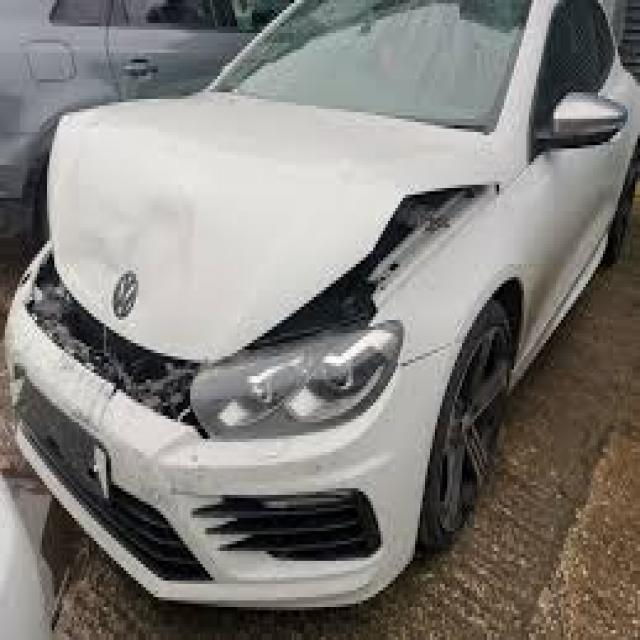damaged-hood: (30, 87, 492, 363)
